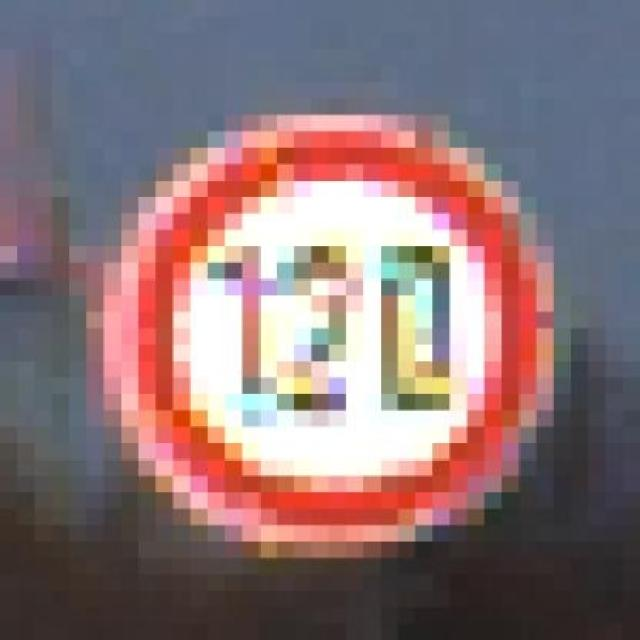forb_speed_over_120: (118, 122, 550, 546)
